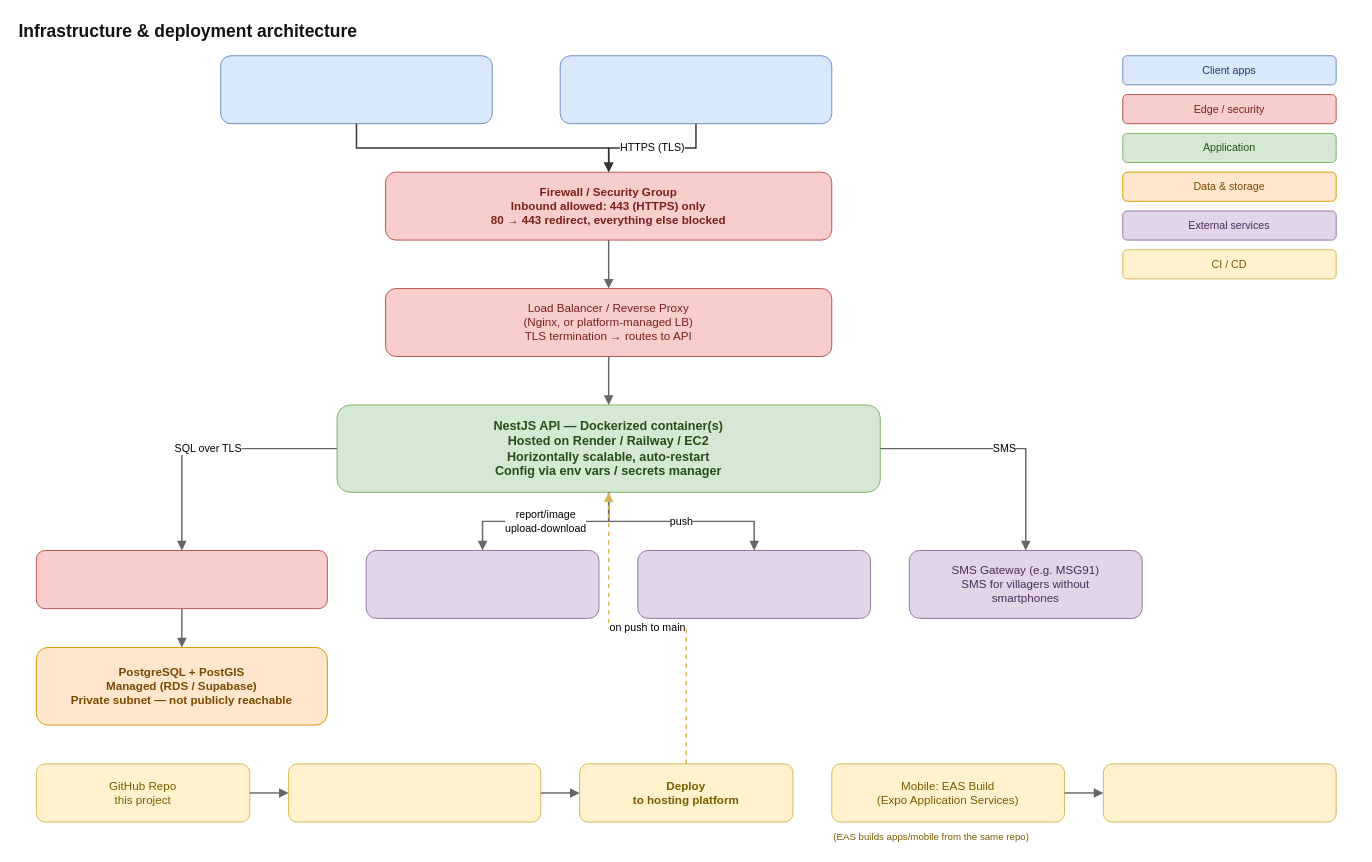
This 1372x862 diagram has some shape labels left out. Here are the shapes that lost their labels. From the top down, the centre of each, then its label:
At (x=356, y=89): "Customer + Staff Mobile App React Native (Expo) iOS / Android".
At (x=695, y=89): "Admin Web Dashboard React (Vite) Desktop browser".
At (x=181, y=579): "DB-level Firewall / Security Group Only the API's IP / SG allowed on port 5432".
At (x=482, y=584): "AWS S3 Report PDFs, images".
At (x=754, y=584): "Firebase Cloud Messaging Push notifications".
At (x=414, y=792): "GitHub Actions lint + test + build on push".
At (x=1219, y=792): "Google Play Store (iOS later)".
